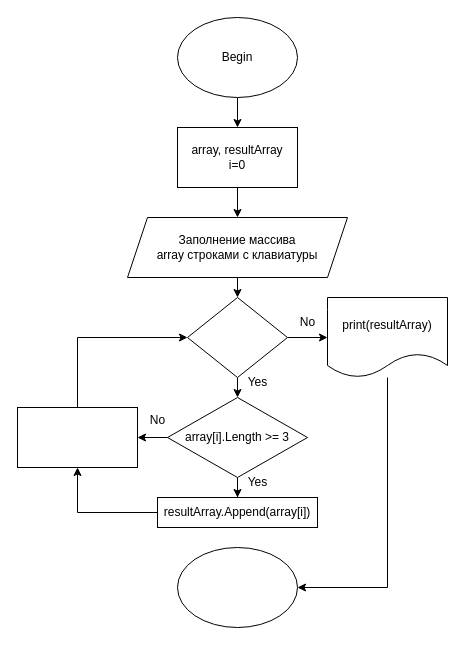
Some shapes in this 465 by 645 pixel diagram are drawn without their labels. The shapes that lost their labels are listed below. From the top down, each one's centre as x and y in pixels, then its label:
the point at 237,337: i < array.Lengh
the point at 77,437: i = i + 1
the point at 237,587: End
